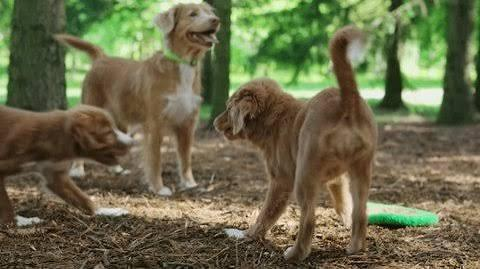adult_dog: (211, 23, 379, 261), (48, 1, 222, 199), (1, 106, 127, 230)
